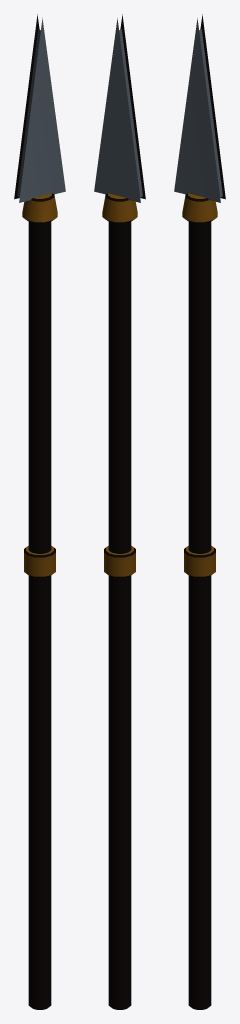
Rendered from Arma_LancaVanguarda.fbx.
3 renders of one model, left to right at view 1: azimuth 30°, elevation 25°; view 2: azimuth 150°, elevation 25°; view 3: azimuth 330°, elevation 25°, orthographic.
Visible parts, largest first — view 1: Piece; view 2: Piece; view 3: Piece.
Boxes of the visible parts, x1,y1,x2,y2 form: Piece: [14, 14, 65, 1009]; Piece: [94, 14, 145, 1009]; Piece: [174, 14, 225, 1009].
Size of the model in its own units: 0.1303 by 2.63 by 0.0855.
